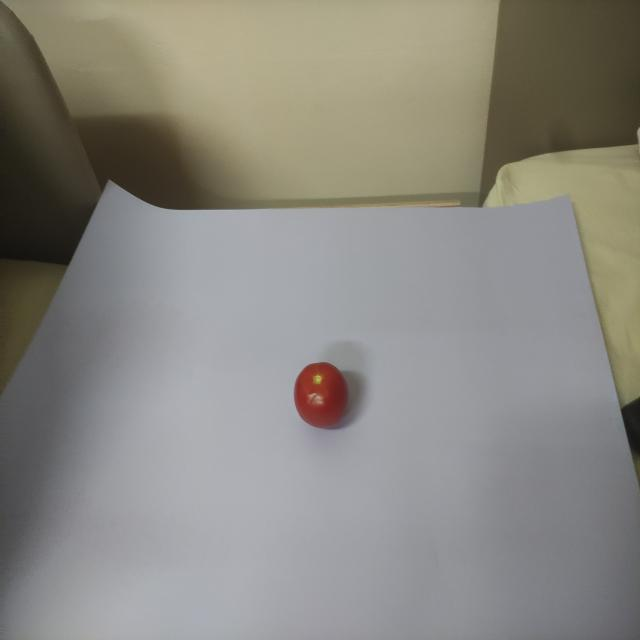kirmizi: (277, 347, 364, 433)
